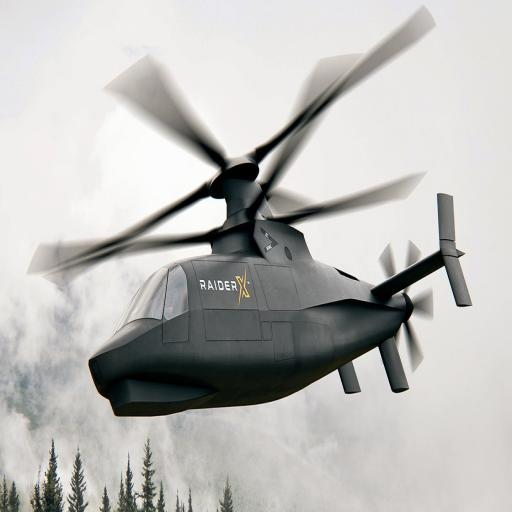helicopter: (17, 2, 488, 460)
